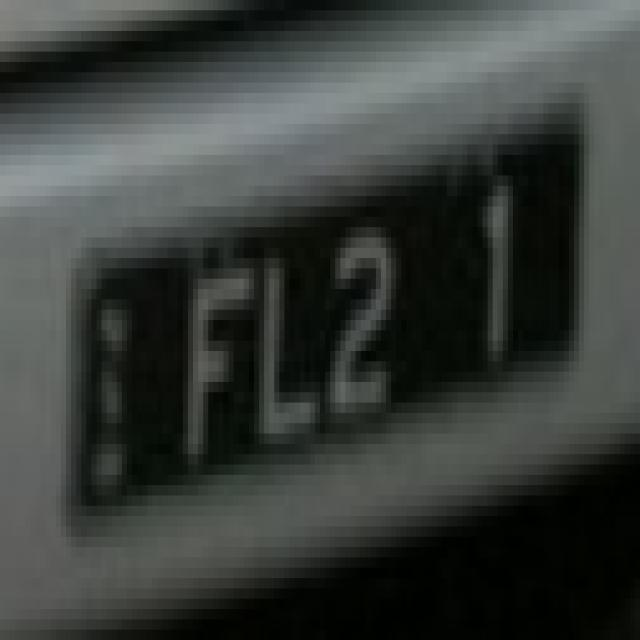licenseplate: (69, 90, 582, 528)
